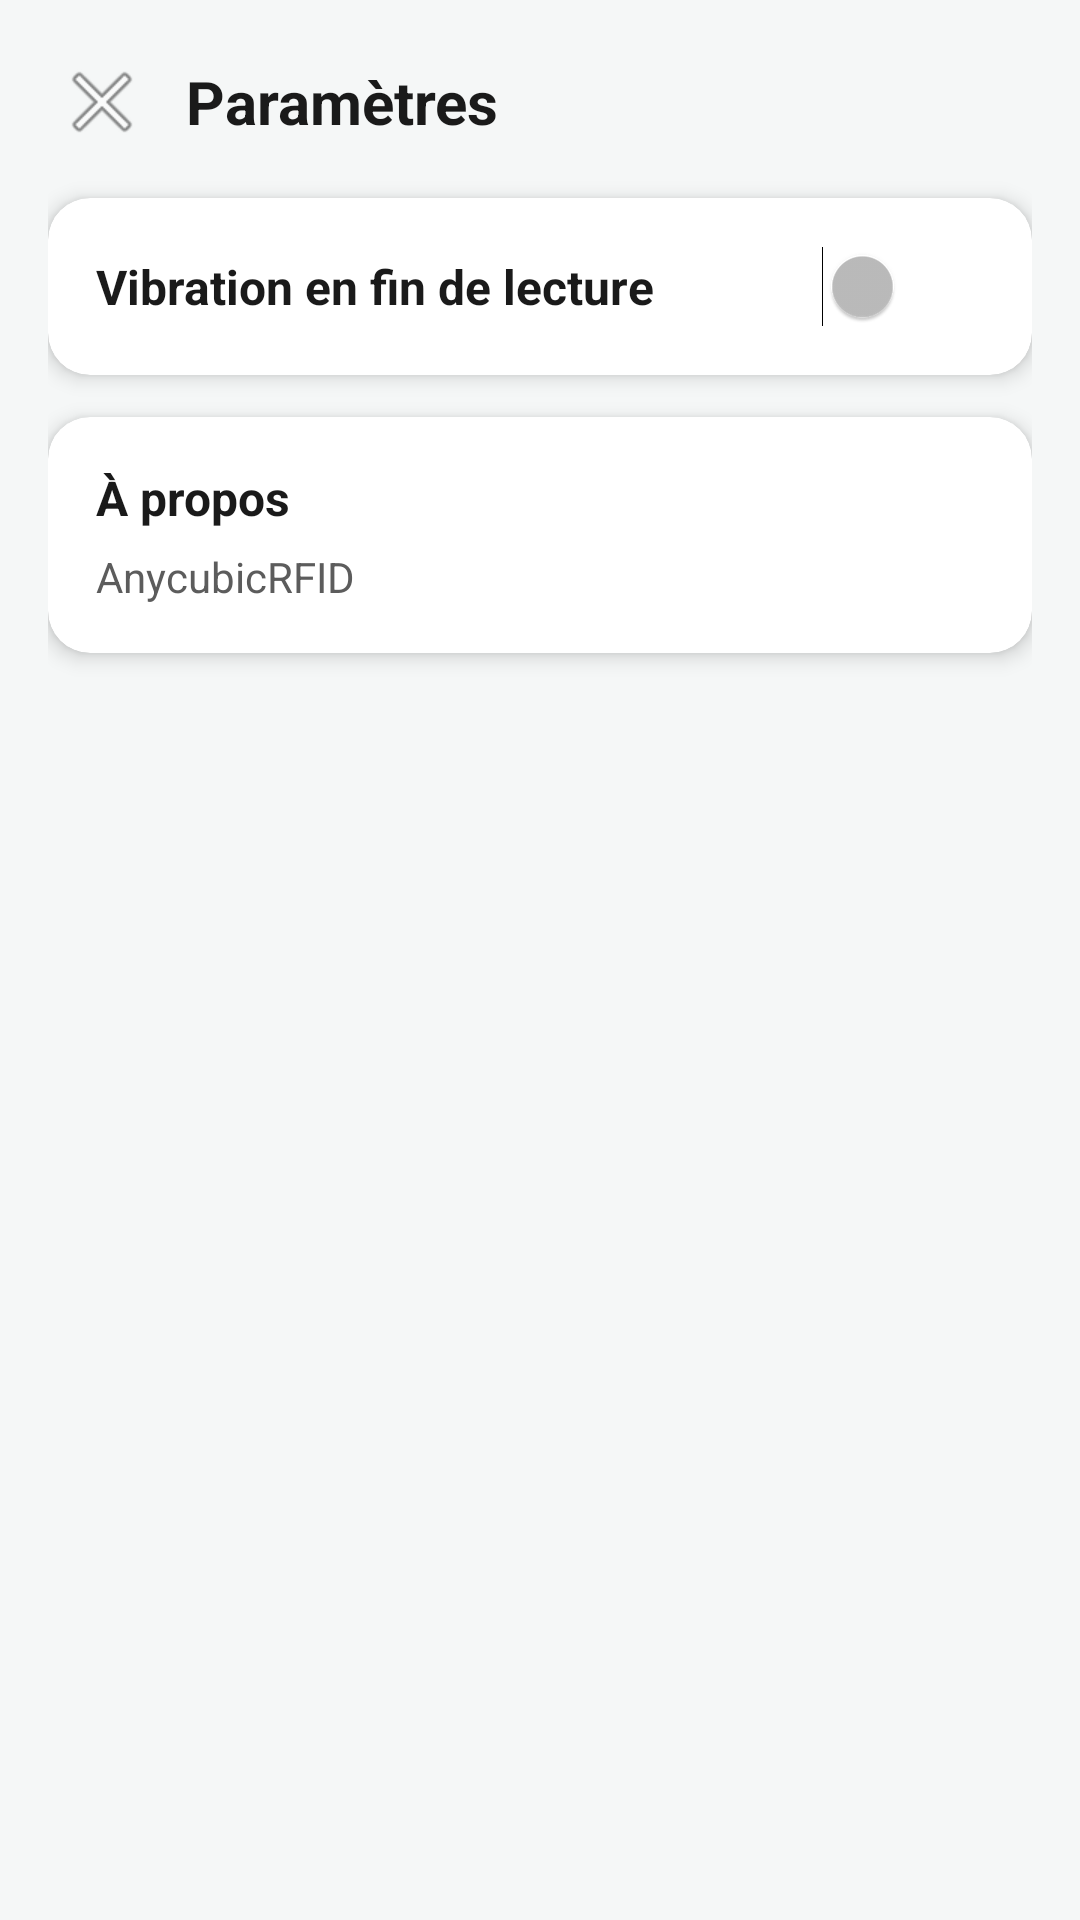

Screen size 1080px×1920px. Icon name, then its center in pixels as (x,y):
Retour: (102,102)
